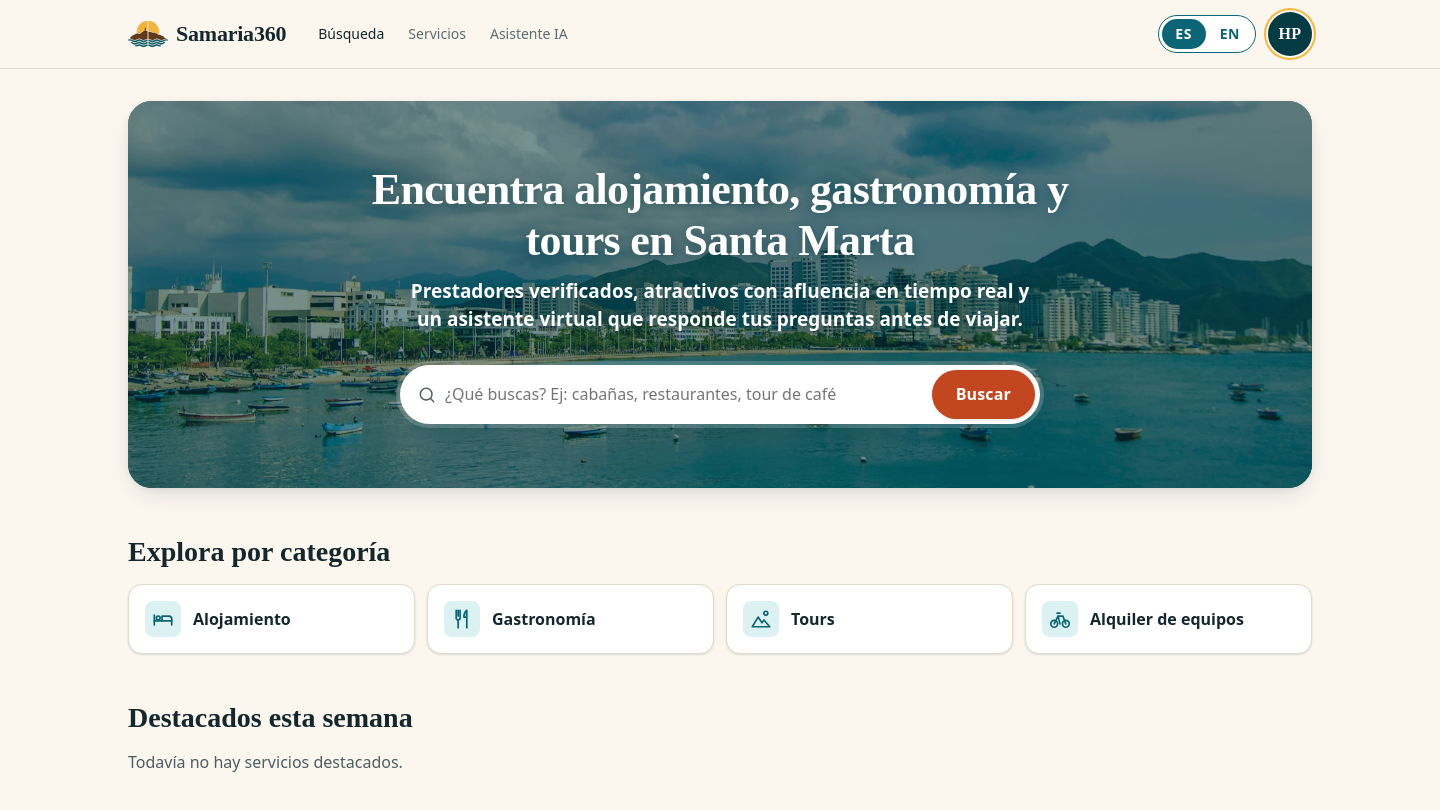
Menú del avatar › para otro rol no aparece «Mis reservas»
What coordinates should you click on to do the following:
click the button "HP"
I would click on:
 (1290, 34)
Its box is top-left (1268, 12), bottom-right (1312, 56).
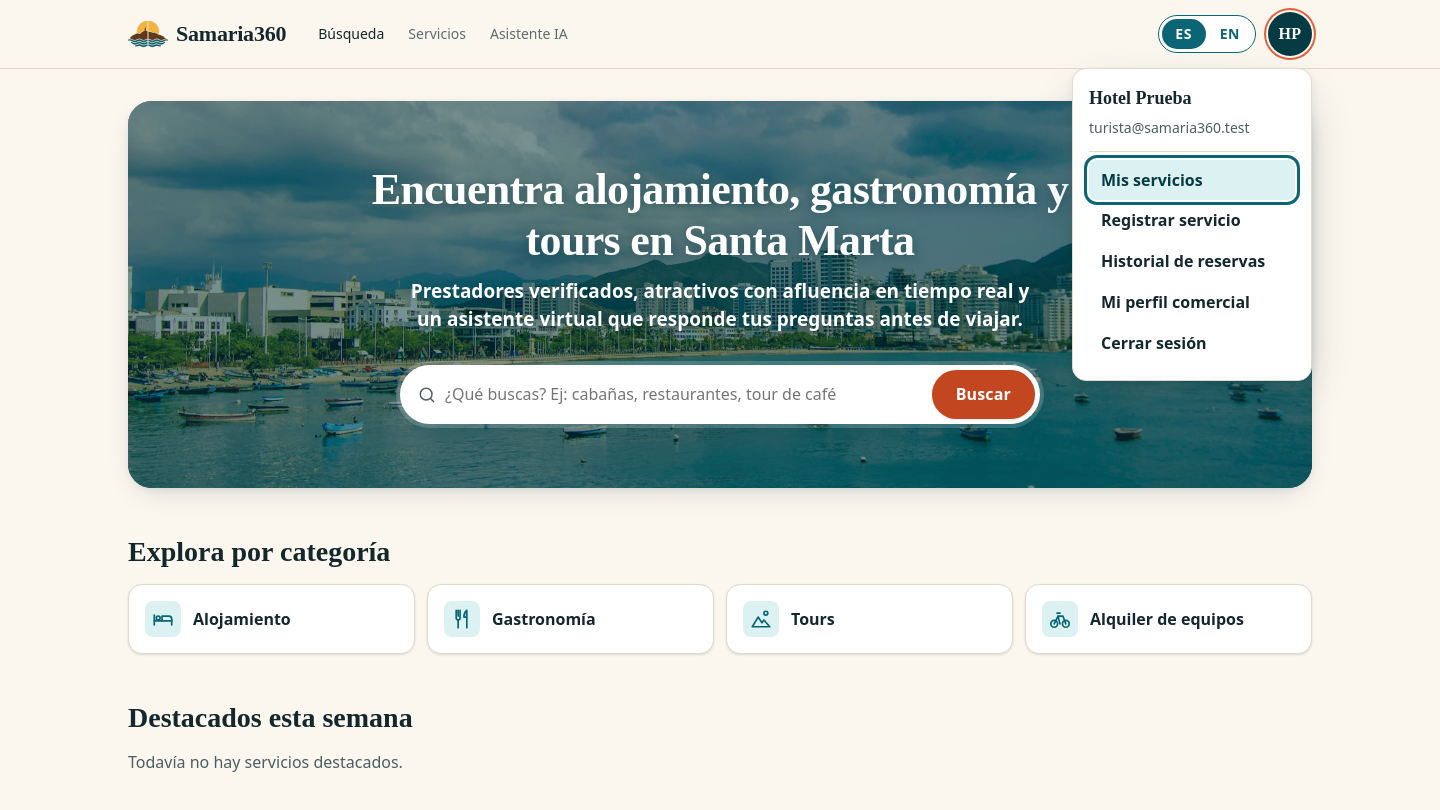
Check: the menu items read "Mis servicios", "Registrar servicio", "Historial de reservas", "Mi perfil comercial", "Cerrar sesión", in this order, box top-left (1089, 160), bottom-right (1295, 200); top-left (1101, 209), bottom-right (1241, 231); top-left (1101, 250), bottom-right (1265, 272); top-left (1101, 291), bottom-right (1250, 313); top-left (1089, 323), bottom-right (1295, 364)
